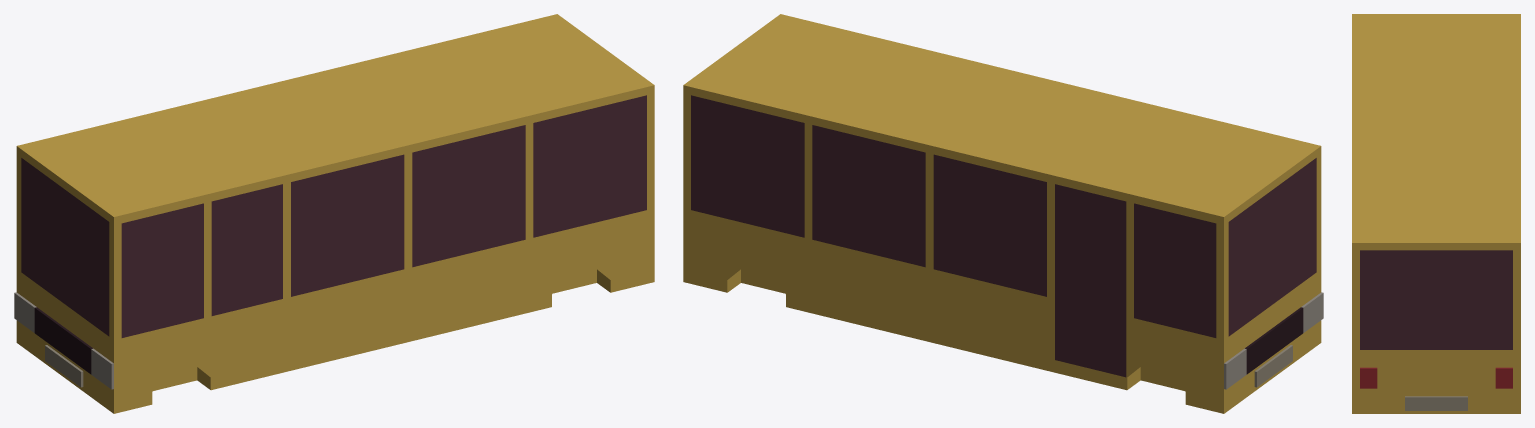
File: Bus_Yellow.fbx
The picture shows the model from 3 angles, left to right: view 1: azimuth 30°, elevation 25°; view 2: azimuth 150°, elevation 25°; view 3: azimuth 270°, elevation 25°; orthographic projection. The views are drawn at different scales.
Visible parts, largest first — view 1: Bus_Yellow, Bus_Lights; view 2: Bus_Yellow, Bus_Lights; view 3: Bus_Yellow, Bus_Lights.
Part boxes in pixels (left/top/right/bottom): Bus_Yellow: left=16, top=14, right=654, bottom=413; Bus_Lights: left=14, top=292, right=113, bottom=389; Bus_Yellow: left=683, top=14, right=1321, bottom=413; Bus_Lights: left=1224, top=292, right=1323, bottom=389; Bus_Yellow: left=1352, top=14, right=1520, bottom=413; Bus_Lights: left=1360, top=367, right=1512, bottom=388.
Bounding box in the file's own units: 6.96 × 2.4 × 2.15.
